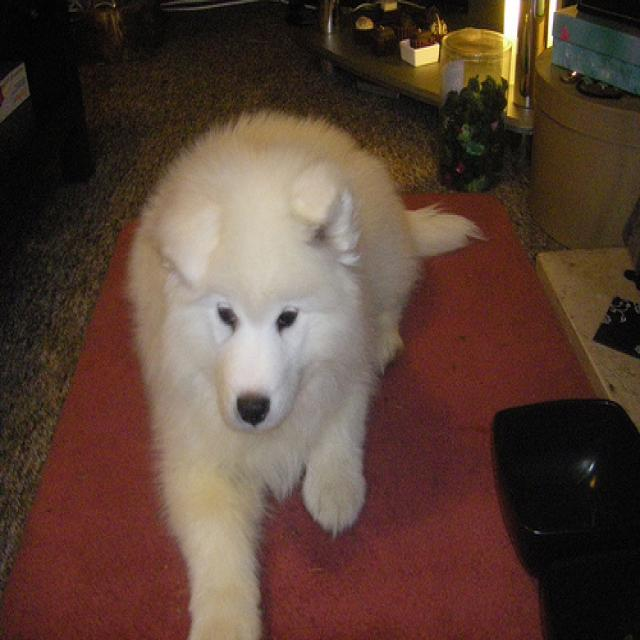dog-samoyed: (116, 102, 495, 637)
